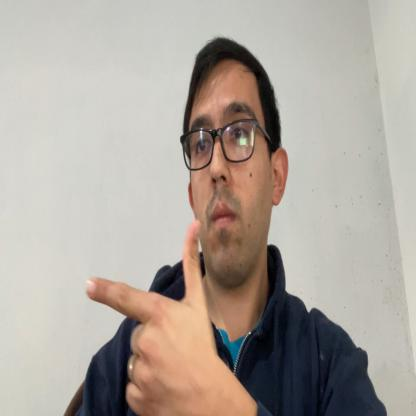G: (85, 221, 215, 415)
